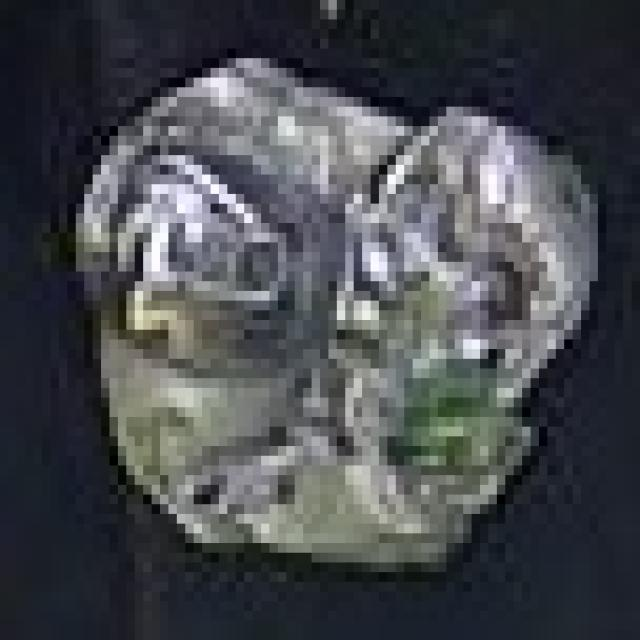litter: (56, 18, 630, 608)
